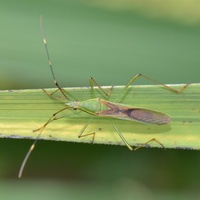insect: (18, 16, 188, 177)
